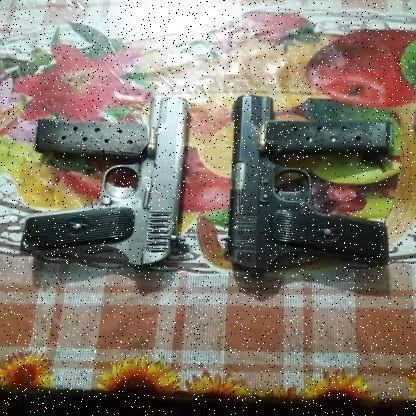rifle: (217, 92, 397, 280), (15, 94, 193, 268)
